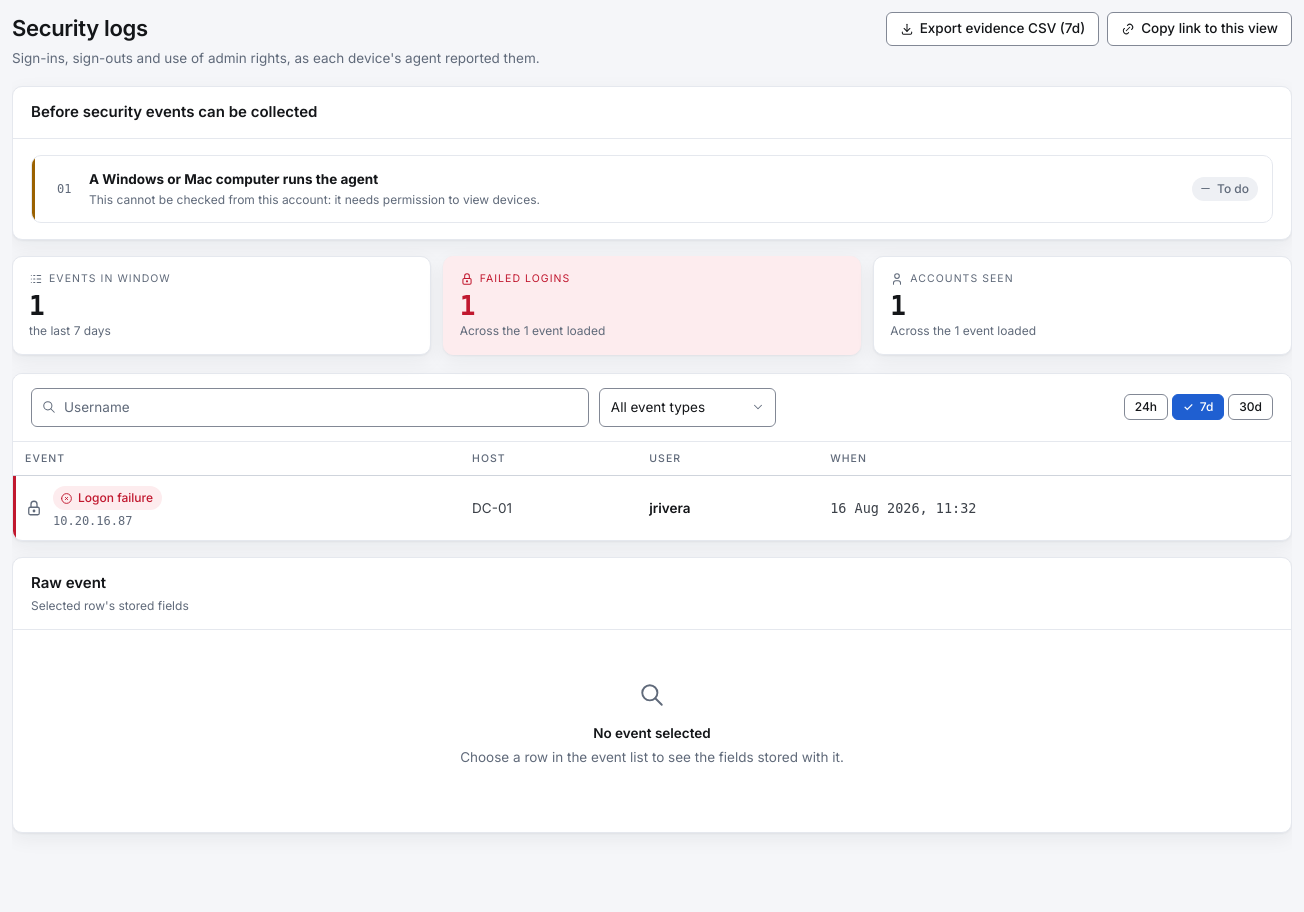
Test: the raw-event panel is read, not dumped (A64) › labels the stored fields instead of printing the JSON as the default view
Step 1. Click the text "DC-01" → (652, 508), box [13,476,1291,540]
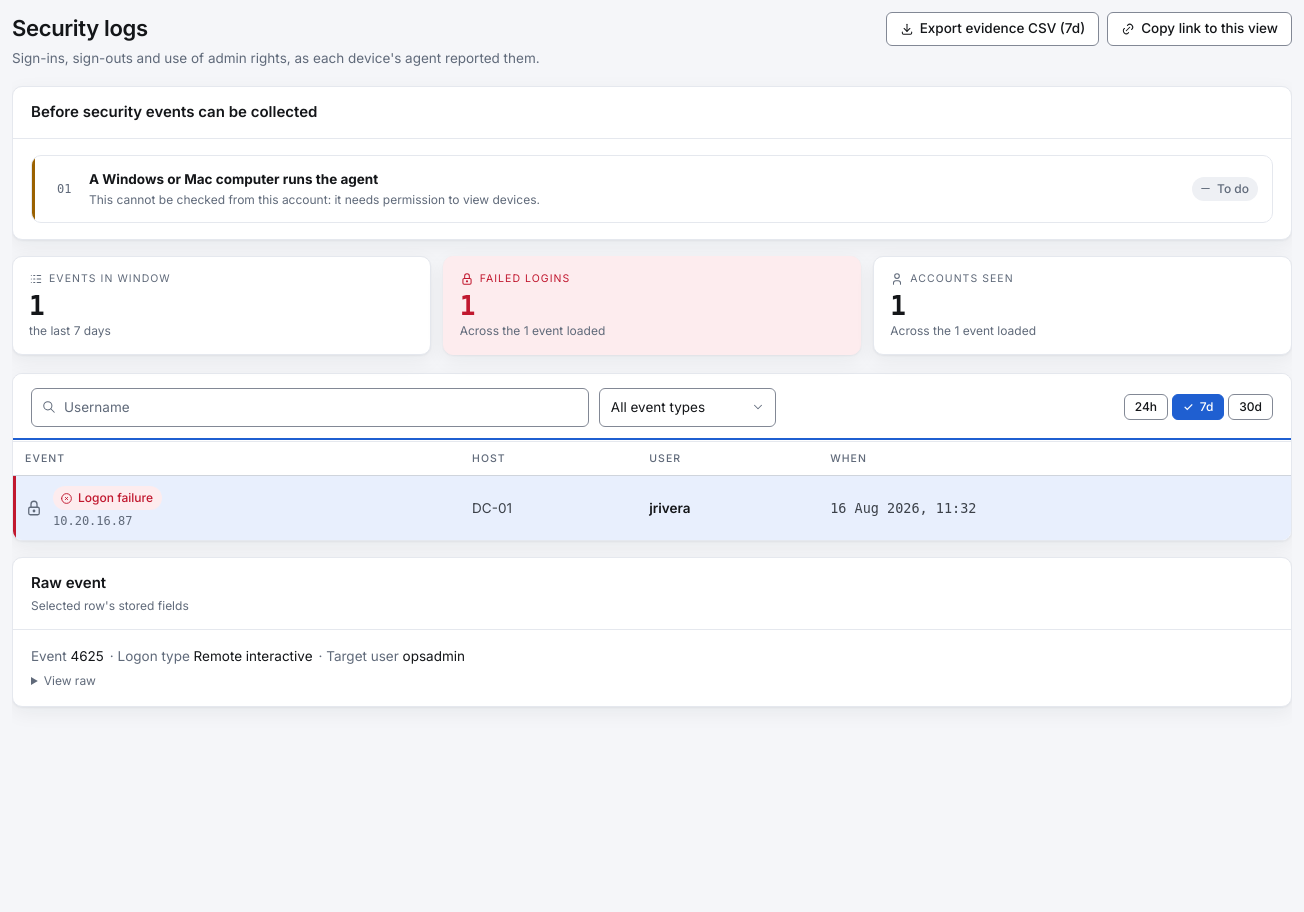
Result: the text "Remote interactive" is shown at [194,648,312,664]
Result: the heading "View raw" is shown at [44,673,96,688]
